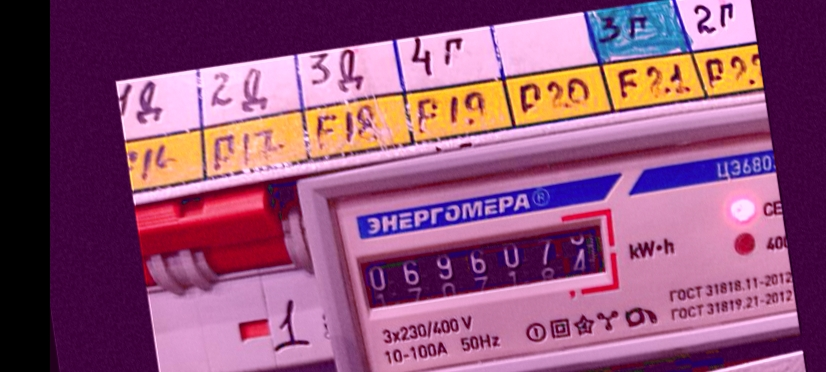0: (499, 241, 521, 273), (366, 265, 387, 295)
4: (568, 246, 589, 277)
6: (467, 247, 488, 278), (400, 259, 421, 289)
7: (533, 237, 556, 270)
9: (432, 254, 454, 284)
screen: (341, 206, 627, 330)
